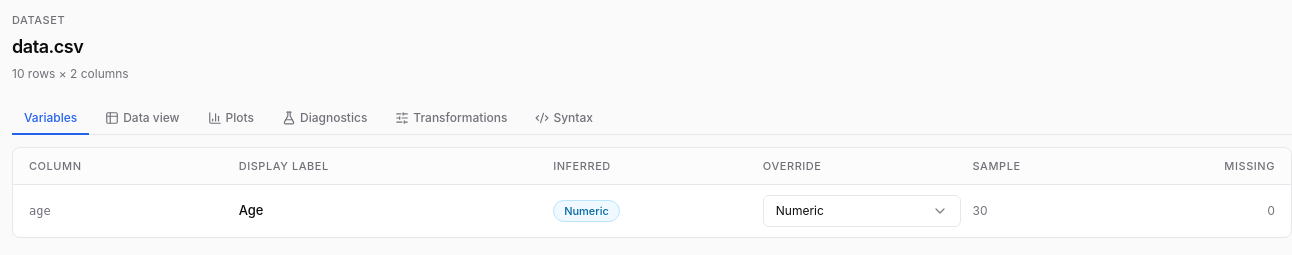
Test: DatasetDetail — tabbed layout › switches to the Syntax tab when clicked
Click the tab with test id "tab-syntax": (564, 118) x1=523 y1=102 x2=605 y2=134
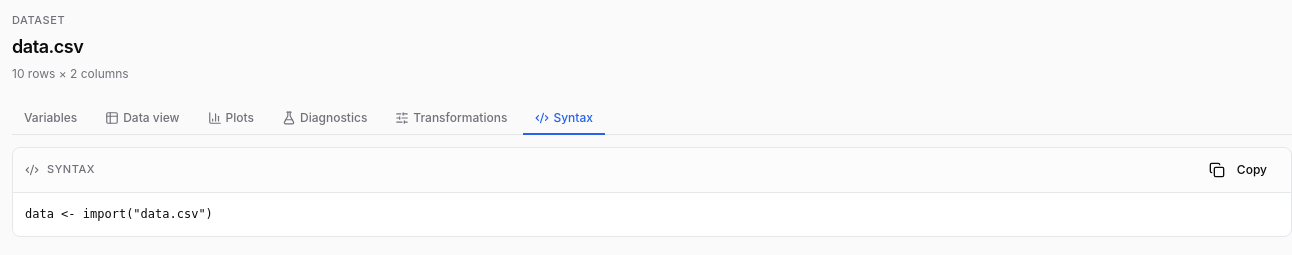
Result: the element with test id "dataset-detail-panel-syntax" is shown at x1=12 y1=146 x2=1291 y2=237
